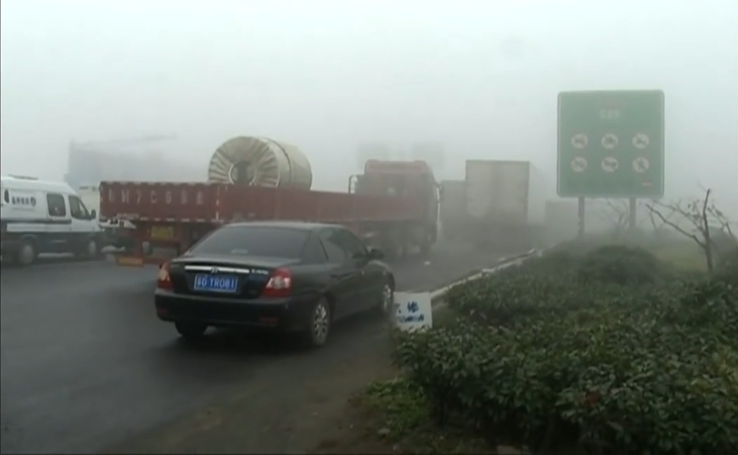bus: (96, 154, 445, 267), (455, 158, 546, 258)
car: (154, 223, 398, 354), (1, 169, 105, 266)
